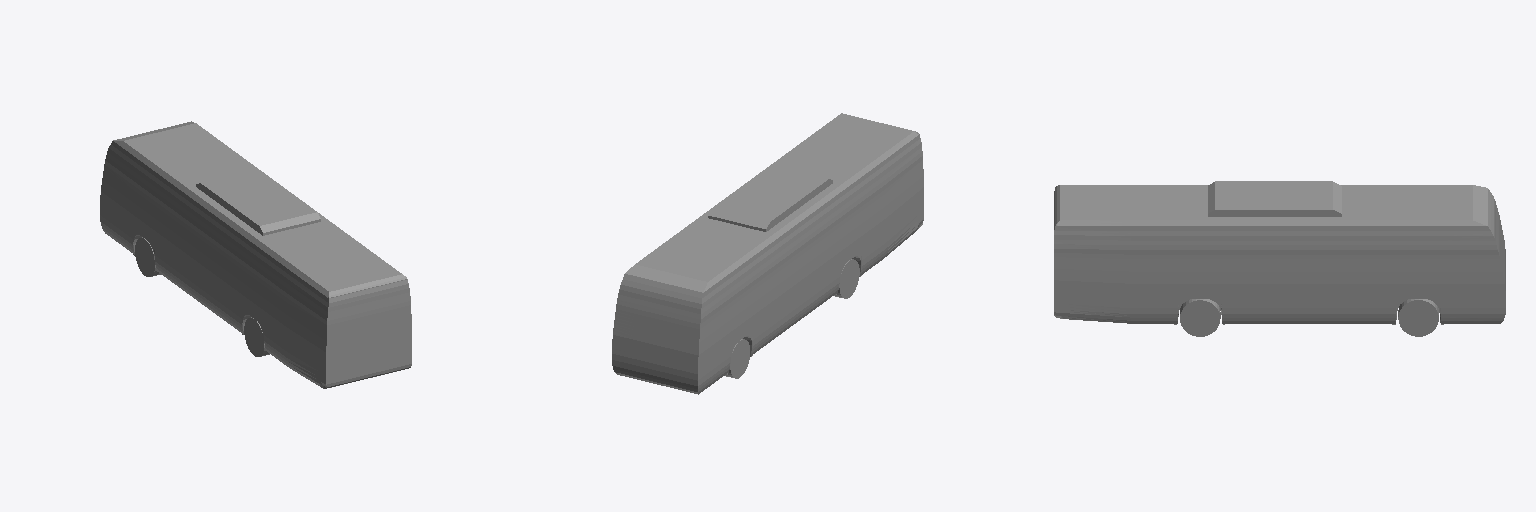
File: bustest2.obj
3 views of the same model, side by side, from view 1: azimuth 30°, elevation 25°; view 2: azimuth 150°, elevation 25°; view 3: azimuth 270°, elevation 25° (orthographic).
Visible parts, largest first — view 1: Cube_Cube.001, Cylinder.001, Cylinder.002; view 2: Cube_Cube.001, Cylinder.002, Cylinder.001; view 3: Cube_Cube.001, Cylinder, Cylinder.004.
Boxes of the visible parts, x1,y1,x2,y2 form: Cube_Cube.001: [100, 121, 411, 388]; Cylinder.001: [135, 237, 160, 276]; Cylinder.002: [244, 317, 269, 356]; Cube_Cube.001: [612, 113, 923, 394]; Cylinder.002: [834, 259, 859, 298]; Cylinder.001: [725, 339, 749, 378]; Cube_Cube.001: [1054, 181, 1505, 324]; Cylinder: [1398, 299, 1438, 336]; Cylinder.004: [1180, 299, 1220, 336].
Bounding box in the file's own units: 0.0421 × 0.0568 × 0.1924.